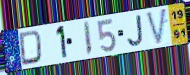1: (54, 24, 69, 61)
5: (96, 17, 118, 54)
D: (18, 29, 44, 67)
I: (83, 20, 94, 57)
J: (126, 13, 145, 48)
V: (145, 6, 168, 47)
